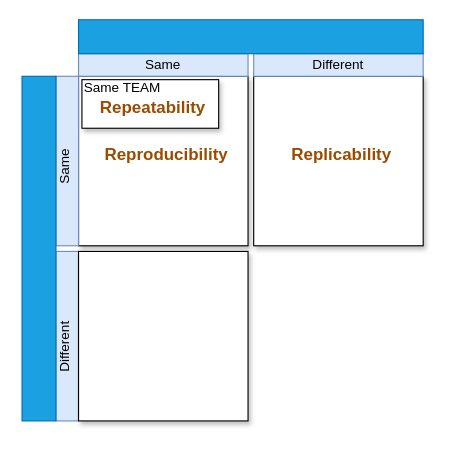
This 450x449 diagram has some shape labels left out. The centre of each missing label's shape, as x and y in pixels:
CODE & Analysys: point (38, 248)
DATA: point (250, 36)
